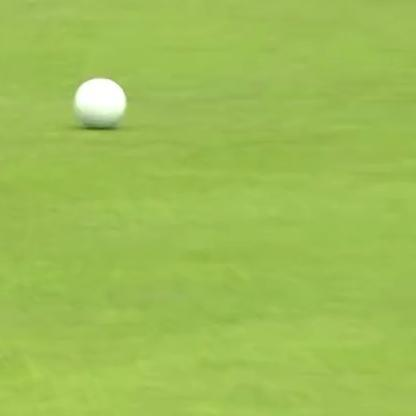golfball: (73, 73, 127, 127)
